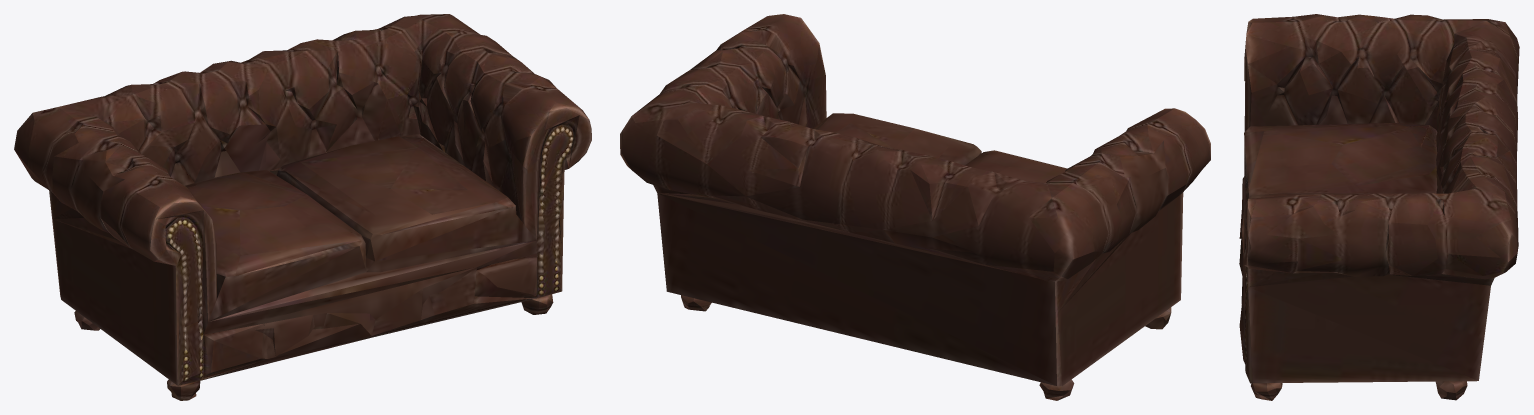
The model's file is sofa_couro.glb.
3 renders of one model, left to right at view 1: azimuth 30°, elevation 25°; view 2: azimuth 150°, elevation 25°; view 3: azimuth 270°, elevation 25°, orthographic. The views are drawn at different scales.
Visible parts, largest first — view 1: Mesh_0; view 2: Mesh_0; view 3: Mesh_0.
Part boxes in pixels (box(x1,y1,x2,y2)): Mesh_0: box(14, 14, 591, 400); Mesh_0: box(620, 14, 1210, 400); Mesh_0: box(1239, 14, 1519, 400).
Size of the model in its own units: 1.88 by 0.85 by 1.04.
1 material, 1 textured.
